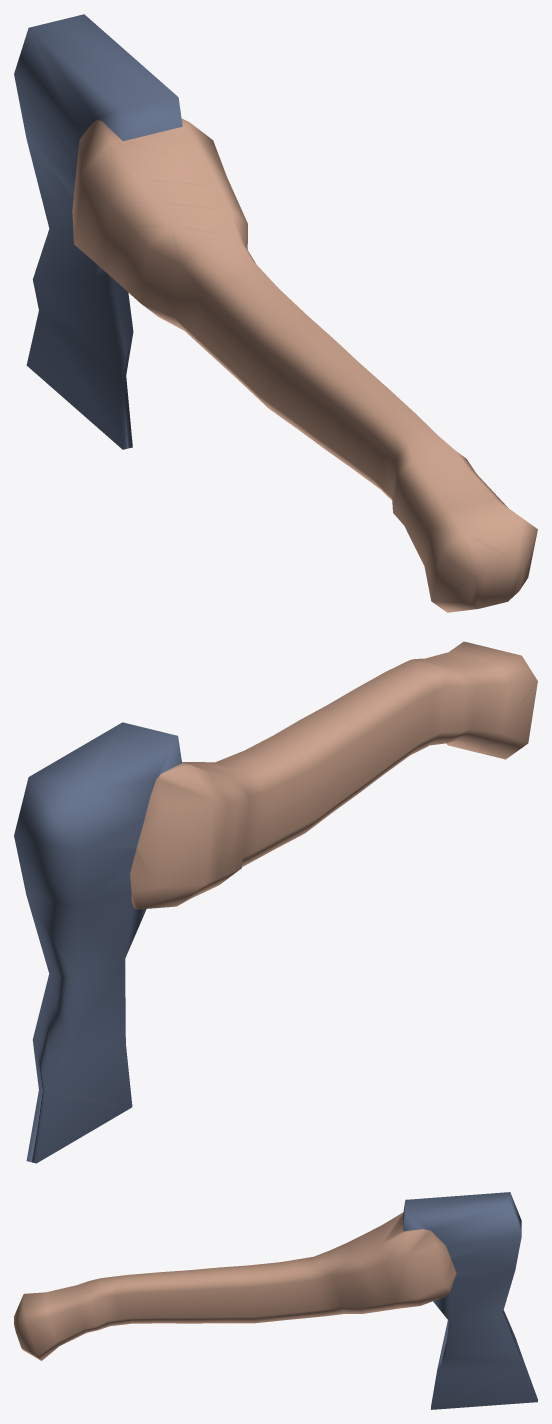
File: axe.glb
3 renders of one model, top to bottom at view 1: azimuth 30°, elevation 25°; view 2: azimuth 150°, elevation 25°; view 3: azimuth 270°, elevation 25°, orthographic. The views are drawn at different scales.
Bounding box in the file's own units: 0.3362 × 0.9246 × 2.1.
Materials: 1 (1 with a texture image).
